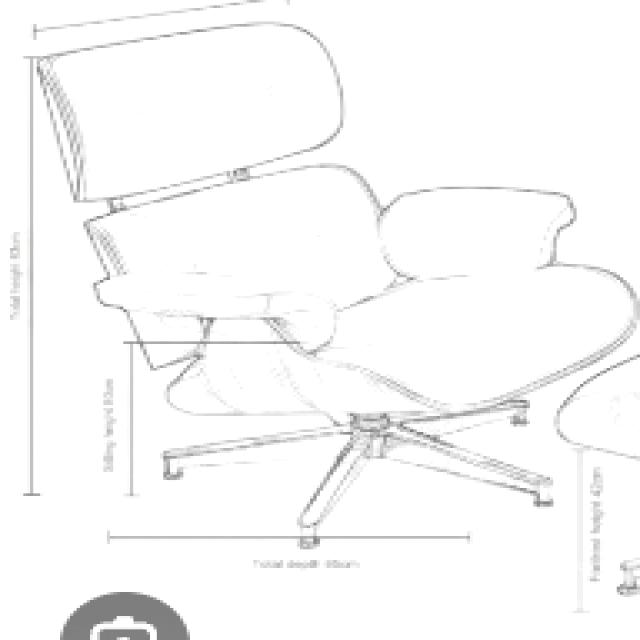Backrest: (76, 159, 400, 377)
Eames_base: (152, 400, 571, 554)
Eames_lounge: (86, 263, 348, 360), (374, 183, 582, 286)
Headrest: (31, 13, 353, 206)
Seat: (161, 258, 637, 421)
